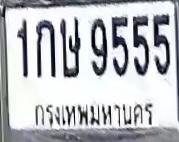1: (16, 19, 29, 79)
5: (152, 14, 170, 75), (132, 16, 150, 76), (112, 16, 128, 77)
9: (90, 18, 107, 77)
A01: (35, 19, 55, 78)
A39: (59, 17, 80, 78)
BKK: (32, 102, 157, 129)
